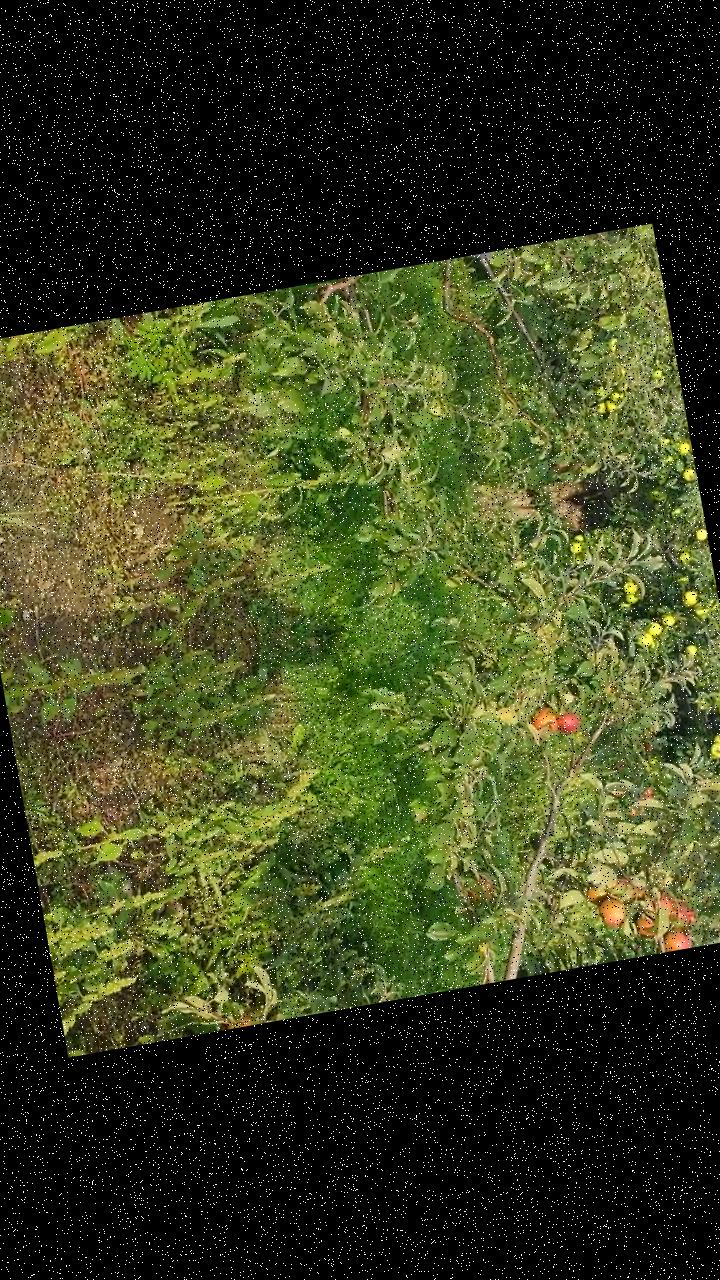Apple: (597, 896, 630, 931), (528, 704, 559, 738), (608, 873, 638, 905), (660, 925, 692, 951), (554, 710, 584, 737), (634, 913, 659, 939), (584, 881, 610, 906), (654, 894, 672, 918), (678, 902, 696, 922)
